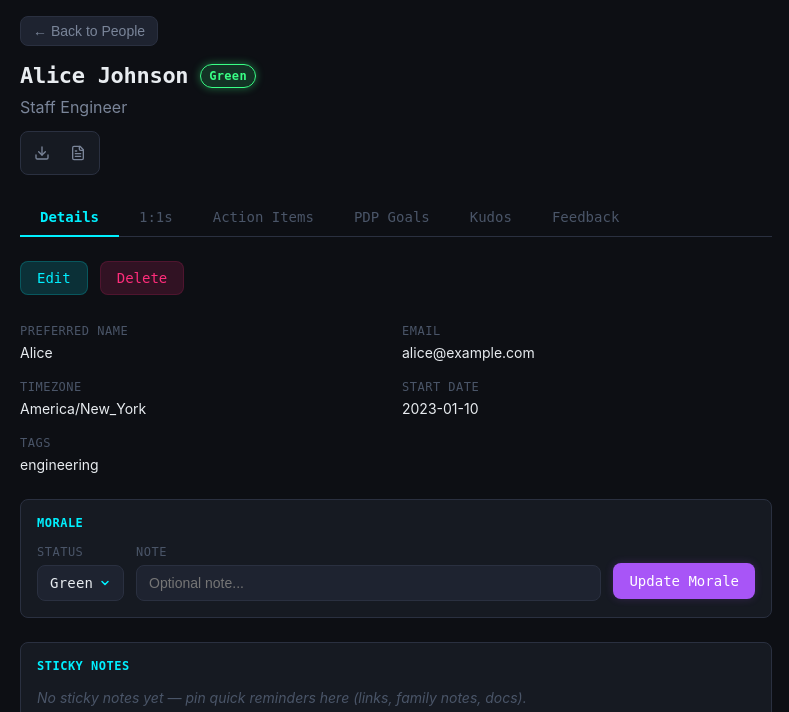
Scenario: PersonDetailPage — 1:1s Tab › should show timeline with entries when 1:1s tab is clicked
Click the tab with test id "tab-one-on-ones": (156, 218) [119,199,193,237]
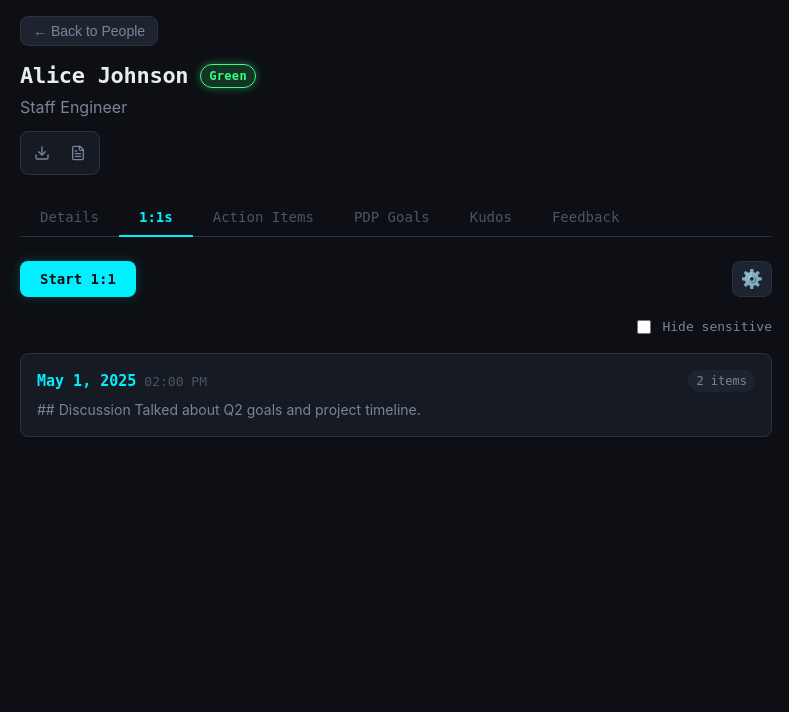
Result: the element with test id "one-on-one-timeline" is shown at [20,317,772,437]
